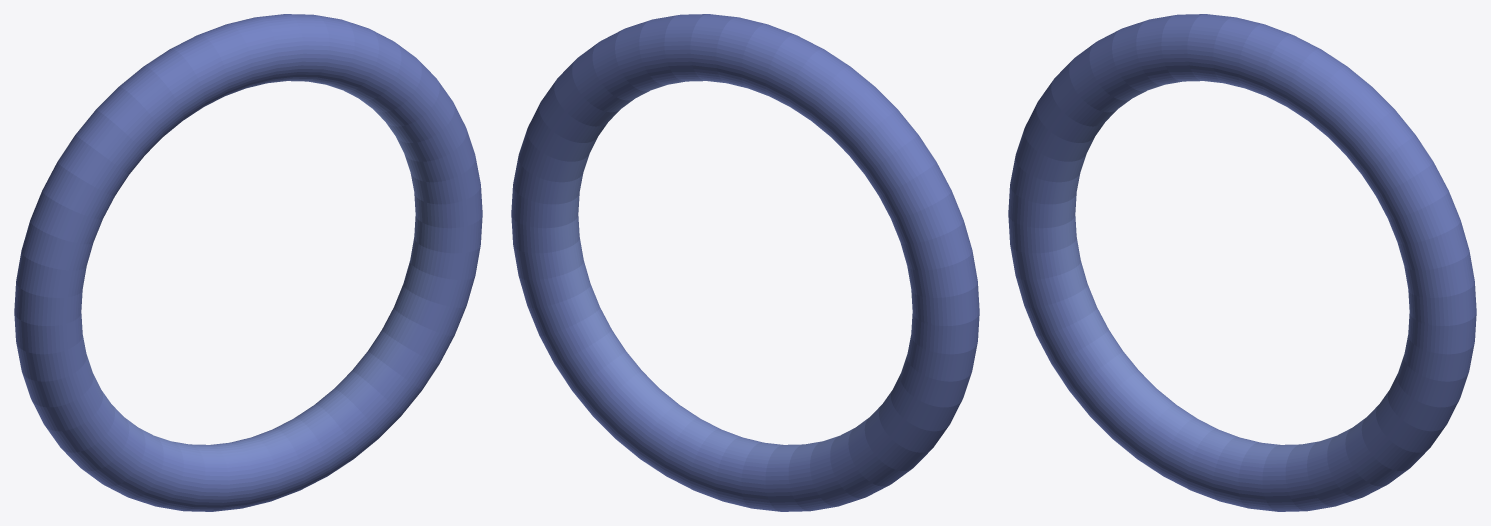
3 renders of one model, left to right at view 1: azimuth 30°, elevation 25°; view 2: azimuth 150°, elevation 25°; view 3: azimuth 330°, elevation 25°, orthographic.
Visible parts, largest first — view 1: world; view 2: world; view 3: world.
Part boxes in pixels (x1,y1,x2,y2): world: (14,14,482,511); world: (511,14,979,511); world: (1008,14,1476,511).
Bounding box in the file's own units: 22.13 × 22.09 × 2.79.
